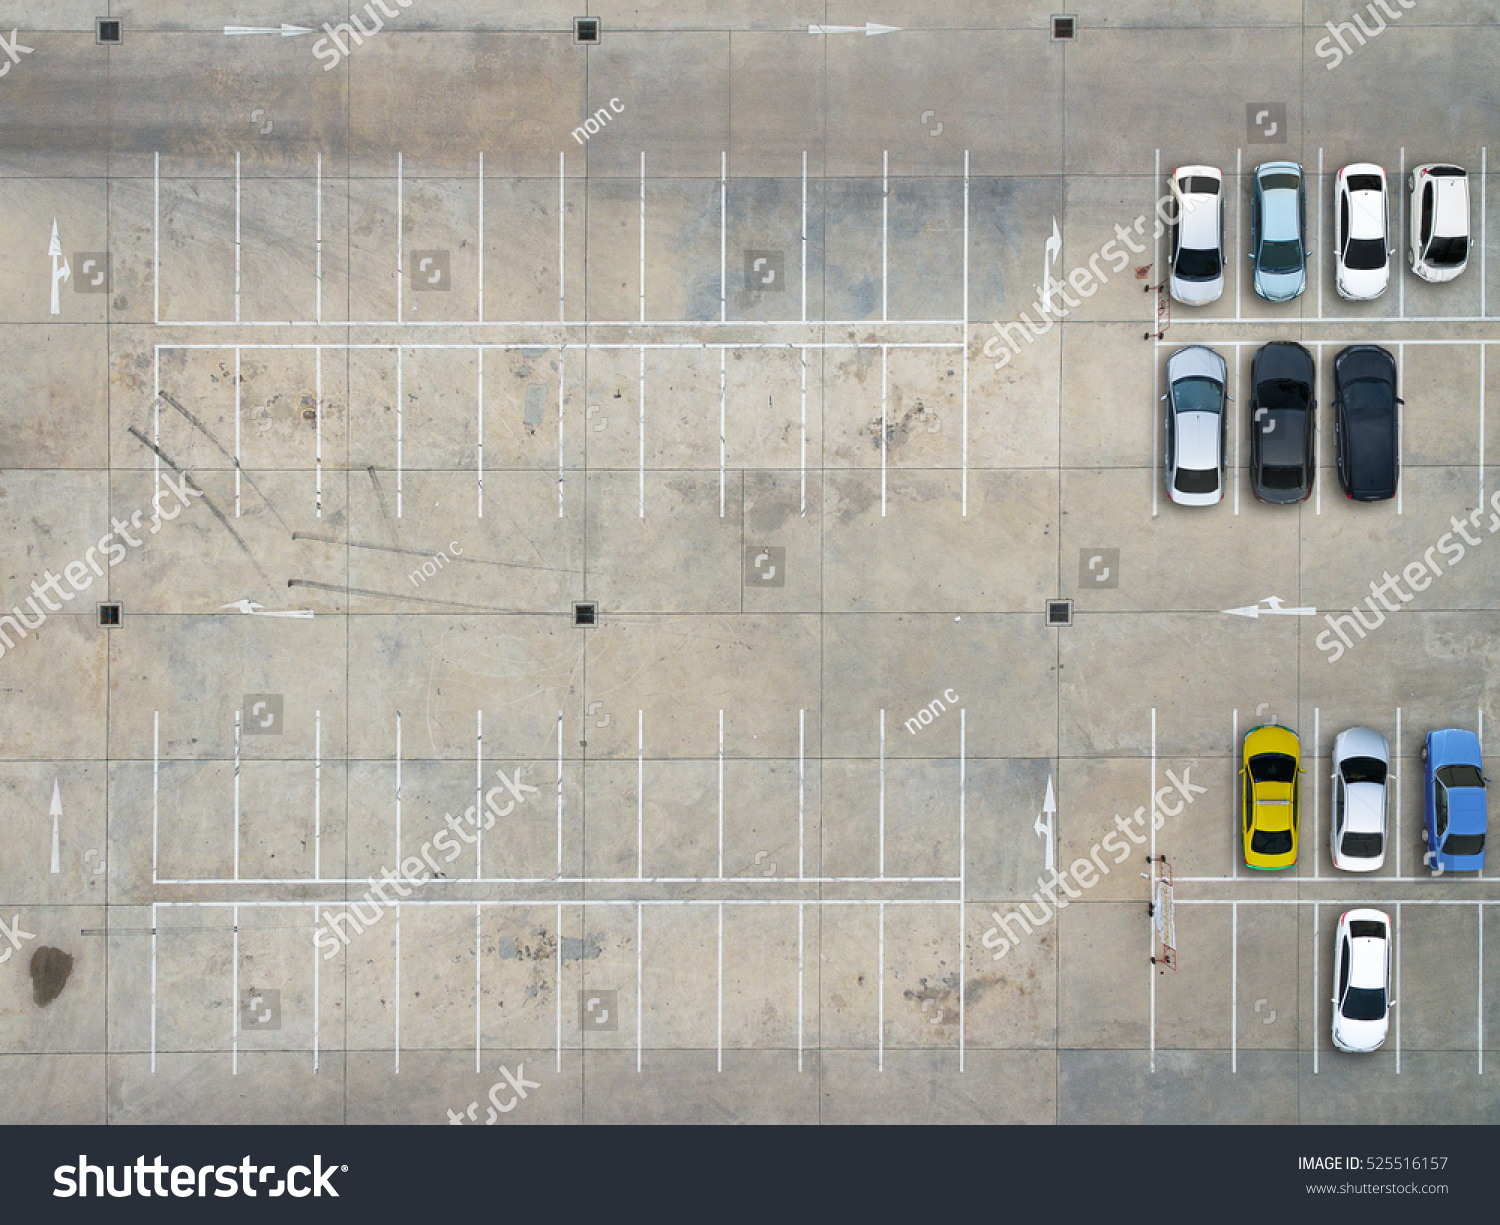Car: (1245, 340, 1318, 507), (1160, 345, 1231, 512), (1331, 345, 1402, 505), (1323, 723, 1397, 874), (1418, 728, 1489, 874), (1238, 722, 1306, 874), (1328, 907, 1394, 1058), (1331, 160, 1394, 309), (1404, 161, 1473, 289), (1164, 161, 1223, 307), (1250, 160, 1309, 304)
LaneMark: (151, 876, 964, 885), (152, 319, 968, 327), (152, 898, 966, 906), (959, 148, 972, 521), (1147, 707, 1157, 1075), (1152, 148, 1161, 517), (152, 344, 964, 348), (1159, 317, 1498, 323), (1174, 898, 1500, 905), (1174, 877, 1500, 884), (637, 344, 648, 522), (878, 345, 890, 521), (554, 707, 566, 879), (961, 707, 966, 1075), (718, 346, 728, 523), (877, 902, 887, 1078), (1233, 147, 1243, 322), (1316, 146, 1326, 320), (148, 898, 158, 1073), (1230, 902, 1240, 1075), (716, 707, 726, 880), (715, 902, 725, 1075), (638, 148, 648, 319), (232, 707, 242, 877), (313, 707, 323, 874), (311, 907, 321, 1074), (233, 150, 242, 330), (1398, 145, 1407, 322), (881, 150, 890, 327), (635, 707, 644, 882), (635, 900, 644, 1075), (557, 150, 566, 323), (151, 709, 159, 882), (877, 705, 886, 879), (394, 903, 402, 1075), (719, 152, 728, 323), (232, 906, 240, 1074), (394, 708, 402, 875), (477, 344, 485, 523), (234, 345, 242, 525), (153, 343, 161, 522), (1394, 902, 1402, 1080), (152, 150, 159, 328), (1231, 707, 1238, 884), (1480, 145, 1488, 319), (315, 151, 323, 325), (475, 902, 482, 1075), (802, 148, 810, 319), (558, 345, 564, 527), (1312, 900, 1318, 1080), (801, 346, 807, 523), (316, 346, 323, 523), (799, 707, 805, 881), (1395, 707, 1402, 880), (797, 903, 804, 1077), (556, 900, 562, 1073), (1314, 707, 1321, 879), (477, 151, 483, 323), (396, 151, 402, 320), (1480, 341, 1486, 510), (397, 345, 402, 531), (1478, 902, 1483, 1077), (477, 707, 482, 877), (1160, 340, 1500, 343)
